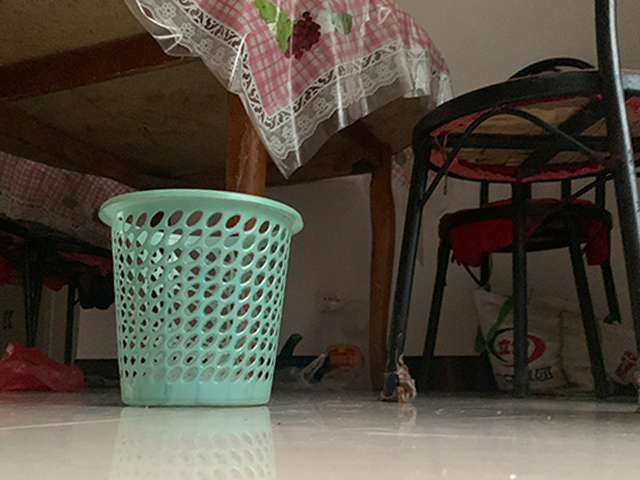stool: (380, 1, 640, 398), (417, 176, 615, 401)
table: (1, 1, 450, 394)
trashcan: (99, 187, 304, 408)
